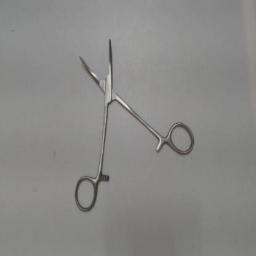Crile Artery Forceps: (71, 34, 197, 214)
